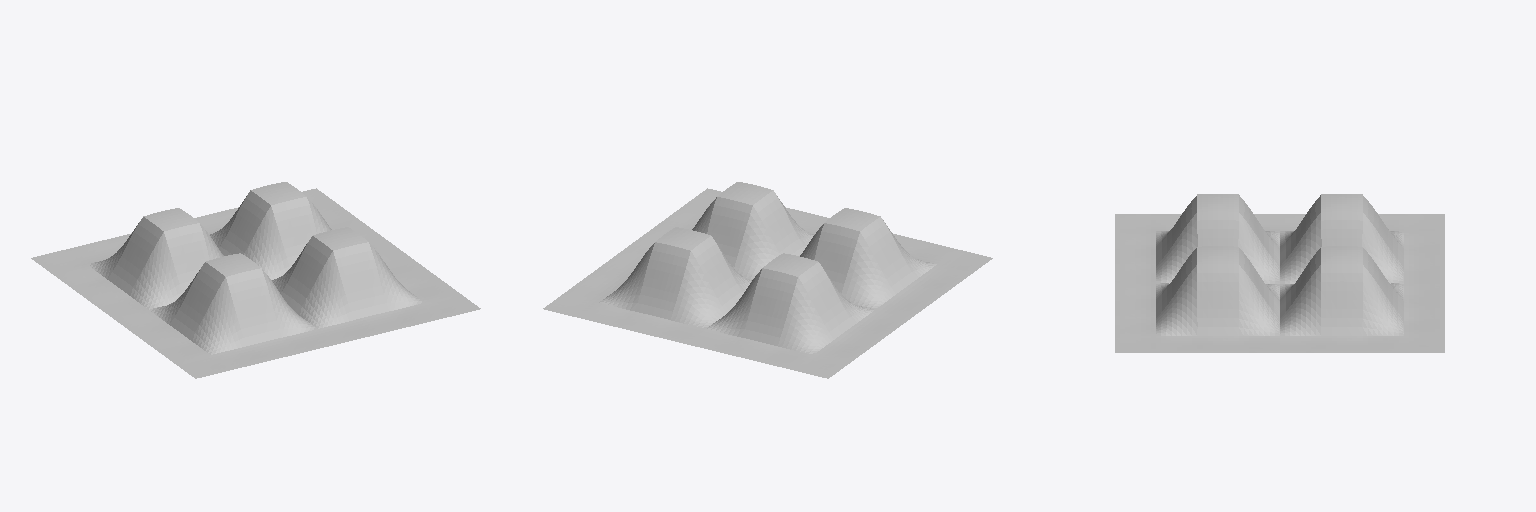
Rendered from pom_high.obj.
The picture shows the model from 3 angles: view 1: azimuth 30°, elevation 25°; view 2: azimuth 150°, elevation 25°; view 3: azimuth 270°, elevation 25°; orthographic projection.
Visible parts, largest first — view 1: Plane; view 2: Plane; view 3: Plane.
Part boxes in pixels (left/top/right/bottom): Plane: left=31, top=182, right=480, bottom=378; Plane: left=543, top=182, right=992, bottom=378; Plane: left=1115, top=194, right=1444, bottom=352.
Bounding box in the file's own units: 2 × 0.3756 × 2.